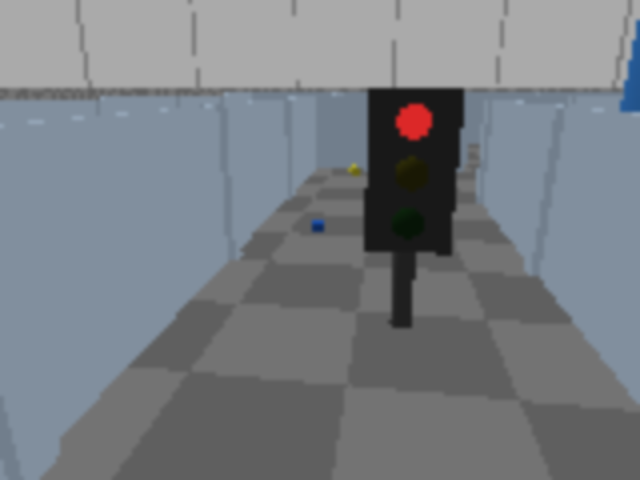person: (600, 0, 638, 284)
traffic_light: (361, 72, 467, 347)
